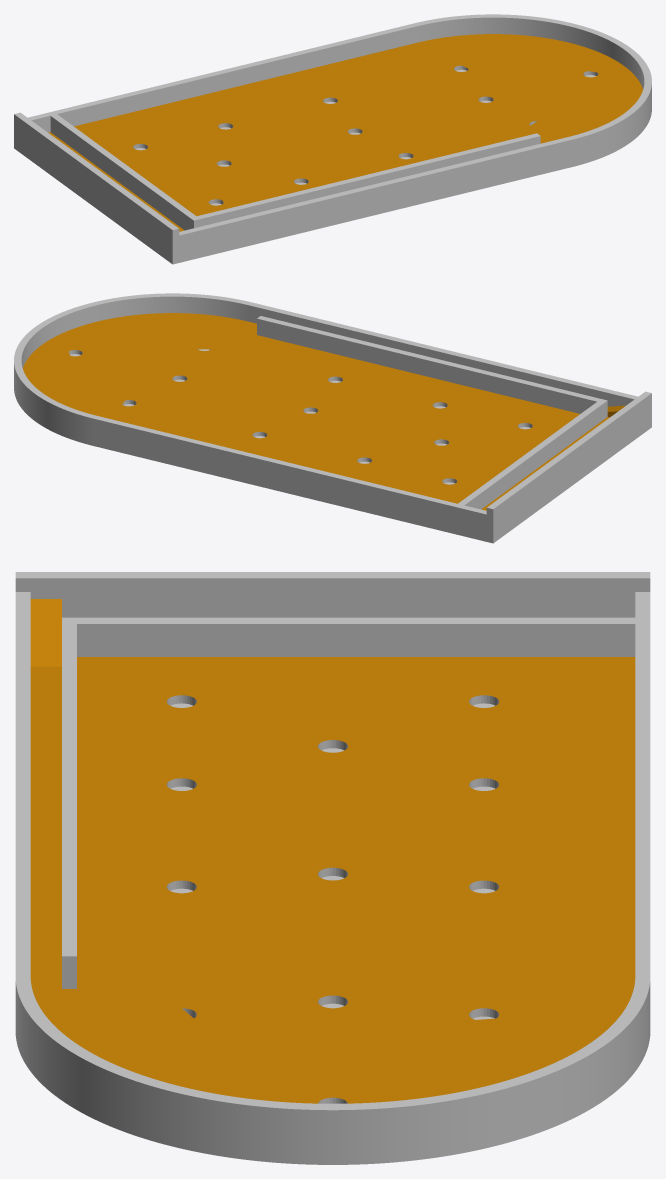
The model's file is fortunabase5.obj.
The picture shows the model from 3 angles, top to bottom: view 1: azimuth 30°, elevation 25°; view 2: azimuth 150°, elevation 25°; view 3: azimuth 270°, elevation 25°; orthographic projection. The views are drawn at different scales.
Visible parts, largest first — view 1: Circle; view 2: Circle; view 3: Circle.
Boxes of the visible parts, x1,y1,x2,y2 form: Circle: (14,14,651,264); Circle: (14,293,651,543); Circle: (15,572,650,1164).
Size of the model in its own units: 8.21 by 0.5 by 4.2.
